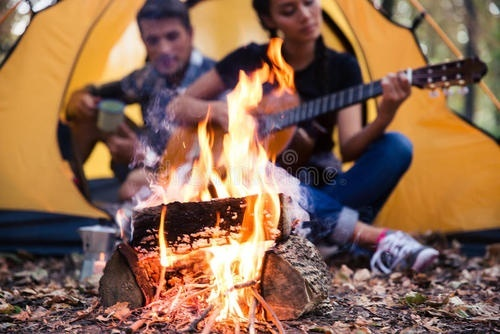fire: (166, 21, 302, 295)
